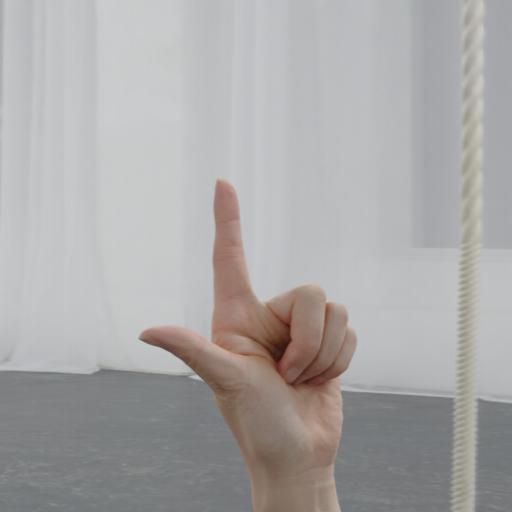L: (134, 154, 373, 479)
